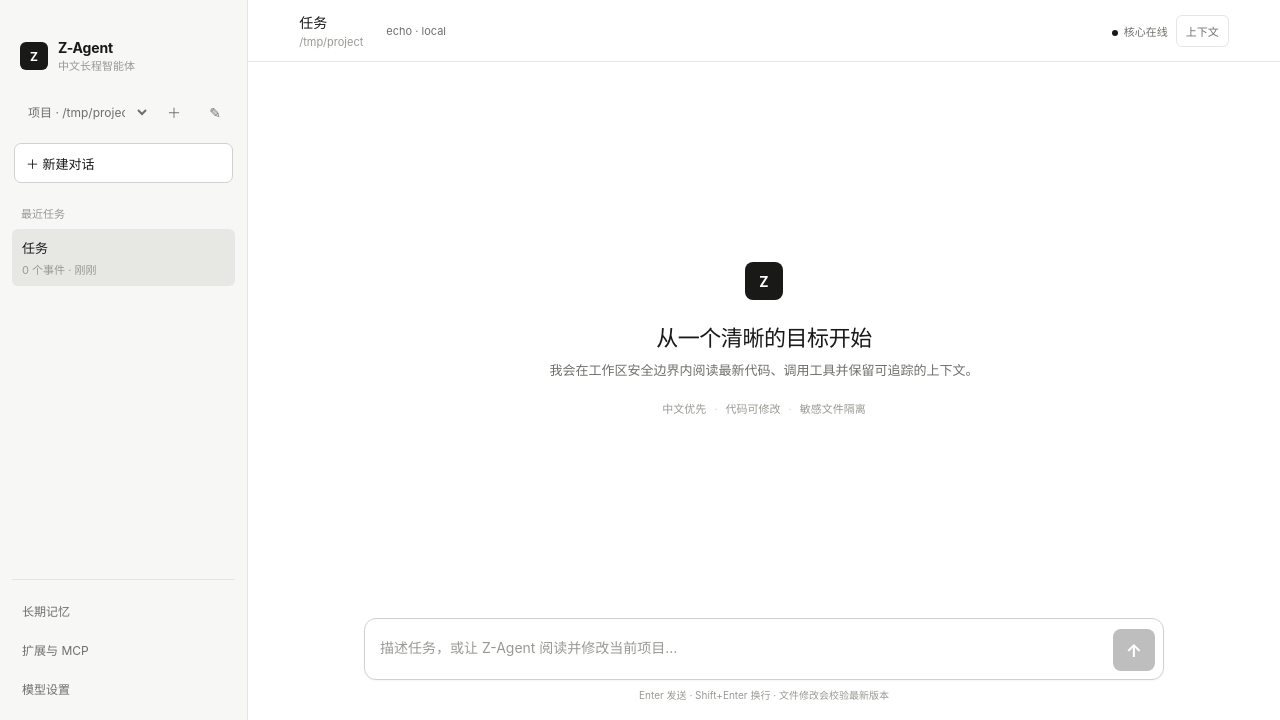
Test: Z-Agent desktop UI › lets the user stop an active stream without showing an error
Expected: the text "任务" below "最近任务" is shown, [22,240,48,256]
Type "分析代码" into the text box named "任务输入" at (742,649), box [380,627,1103,671]
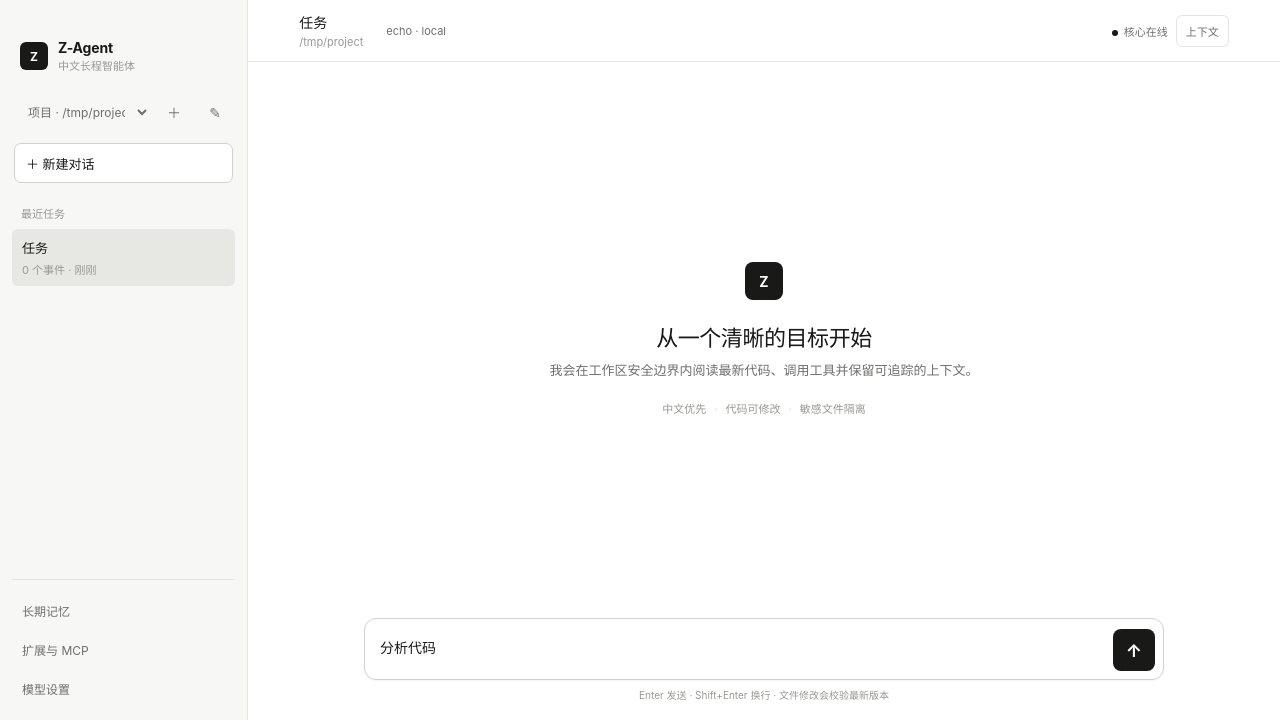
Press Enter in the text box named "任务输入", box [380,627,1103,671]
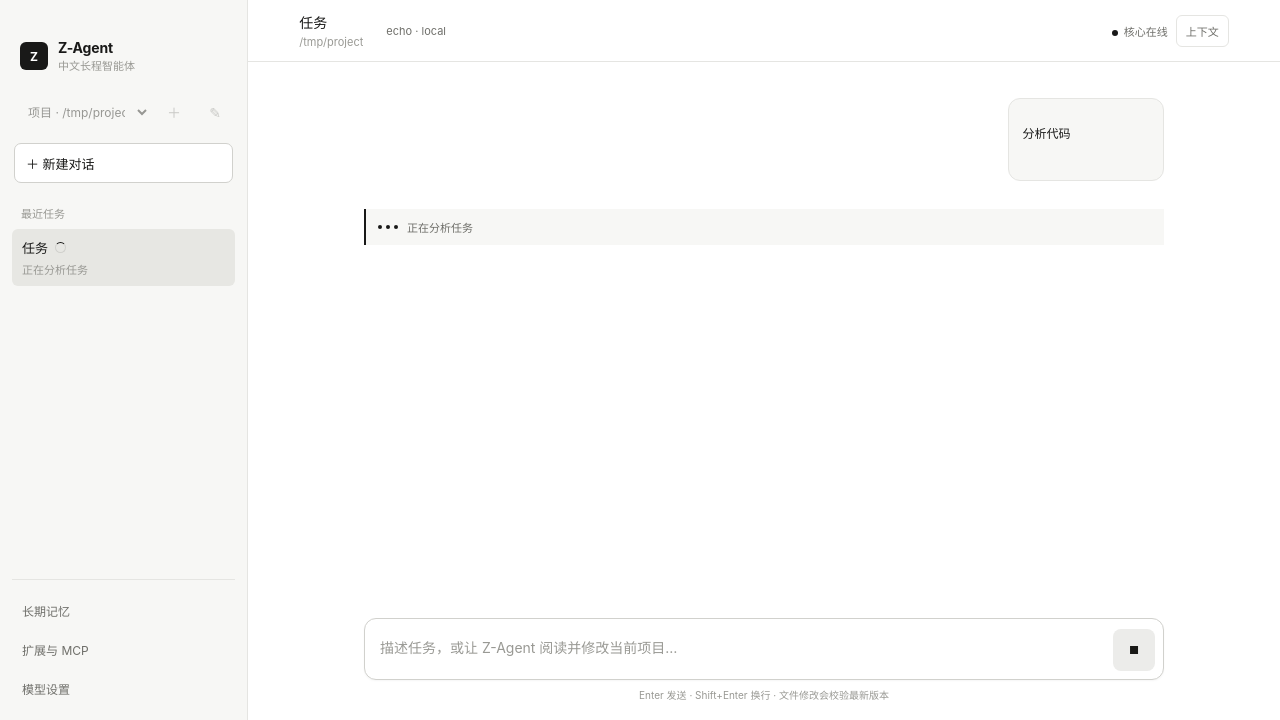
Click the button named "停止生成" at (1134,650), box [1113,629,1155,671]
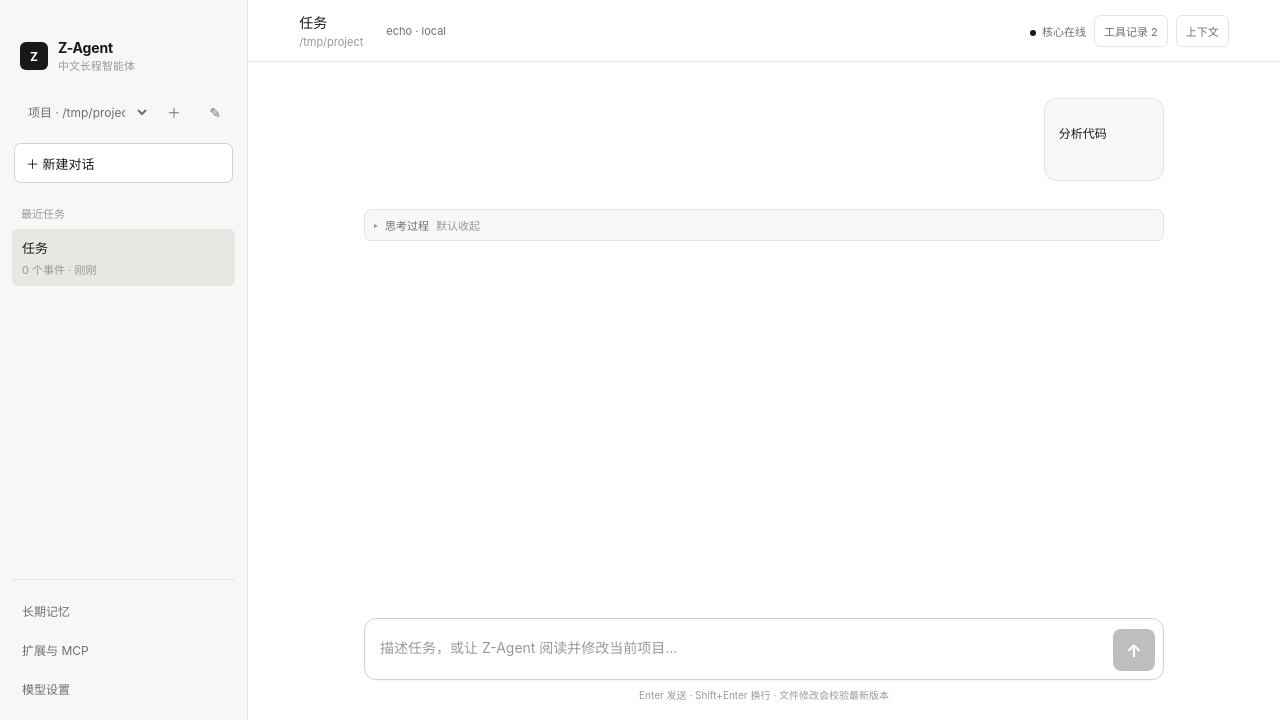
Expected: the button named "发送消息" is shown, [1113,629,1155,671]
Expected: the message "正在分析任务" is gone
Expected: the button with aria-label "显示工具记录" reads "工具记录 2", [1094,14,1168,46]
